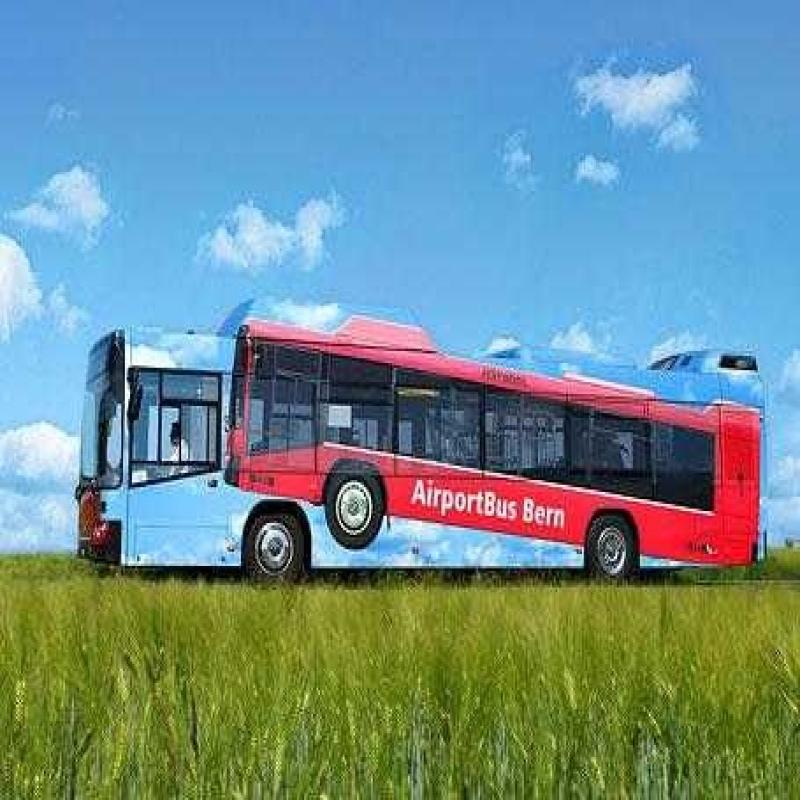bus: (52, 290, 795, 648)
